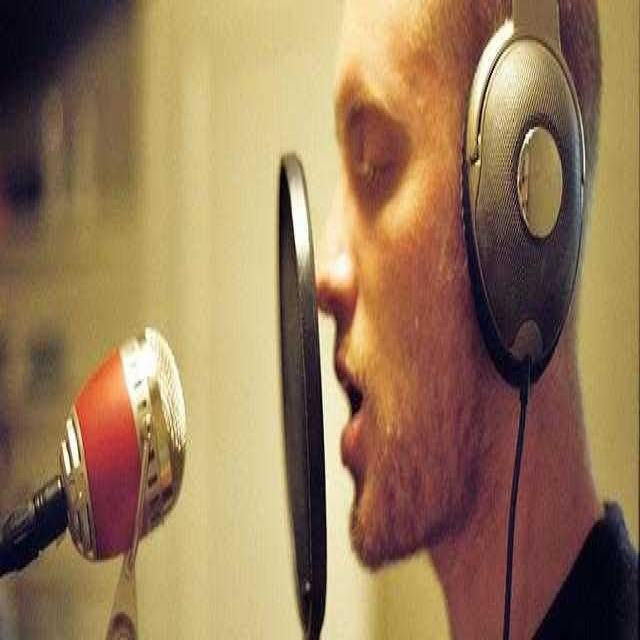microphone: (0, 322, 188, 590)
